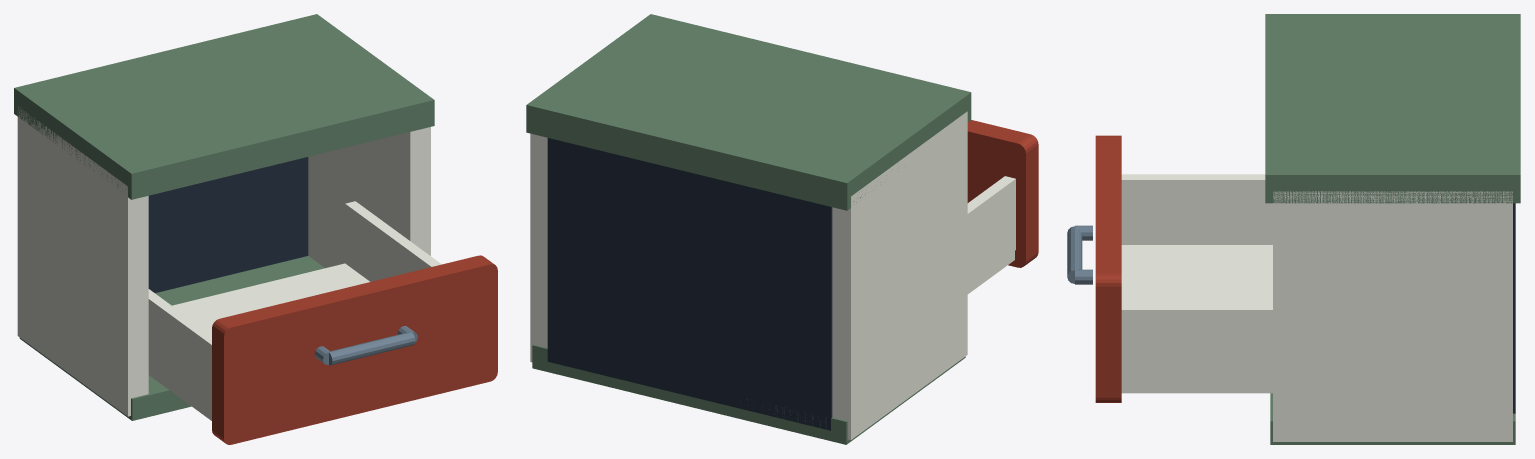
Rendered from drawer.glb.
The picture shows the model from 3 angles, left to right: view 1: azimuth 30°, elevation 25°; view 2: azimuth 150°, elevation 25°; view 3: azimuth 270°, elevation 25°; orthographic projection. The views are drawn at different scales.
Visible parts, largest first — view 1: top, drawer front, side -0.68, back, side 0.68, tray, tray side -0.59, tray side 0.59, bottom, drawer grip1; view 2: back, top, side -0.68, drawer front, bottom, tray side -0.59, side 0.68; view 3: side 0.68, top, tray side 0.59, tray, tray side -0.59, drawer front, bottom, drawer grip1, back.
Boxes of the visible parts, x1=… form: top: x1=14, y1=14, x2=434, y2=199; drawer front: x1=212, y1=255, x2=497, y2=444; side -0.68: x1=17, y1=106, x2=148, y2=416; back: x1=148, y1=157, x2=308, y2=292; side 0.68: x1=308, y1=127, x2=430, y2=268; tray: x1=148, y1=263, x2=369, y2=420; tray side -0.59: x1=148, y1=289, x2=211, y2=411; tray side 0.59: x1=345, y1=201, x2=441, y2=281; bottom: x1=19, y1=256, x2=324, y2=420; drawer grip1: x1=329, y1=332, x2=415, y2=365; back: x1=547, y1=138, x2=832, y2=430; top: x1=526, y1=14, x2=971, y2=210; side -0.68: x1=832, y1=111, x2=967, y2=439; drawer front: x1=967, y1=120, x2=1038, y2=267; bottom: x1=532, y1=344, x2=965, y2=444; tray side -0.59: x1=967, y1=176, x2=1015, y2=284; side 0.68: x1=530, y1=133, x2=547, y2=362; side 0.68: x1=1273, y1=191, x2=1512, y2=441; top: x1=1265, y1=14, x2=1520, y2=203; tray side 0.59: x1=1121, y1=304, x2=1272, y2=383; tray: x1=1121, y1=245, x2=1272, y2=393; tray side -0.59: x1=1121, y1=174, x2=1272, y2=244; drawer front: x1=1095, y1=135, x2=1121, y2=402; bottom: x1=1270, y1=393, x2=1515, y2=444; drawer grip1: x1=1067, y1=226, x2=1082, y2=283; back: x1=1513, y1=203, x2=1515, y2=413.
Size of the model in its own units: 1.46 by 1.15 by 1.74.
